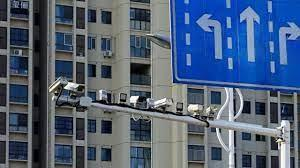tutu: (47, 77, 68, 96)
